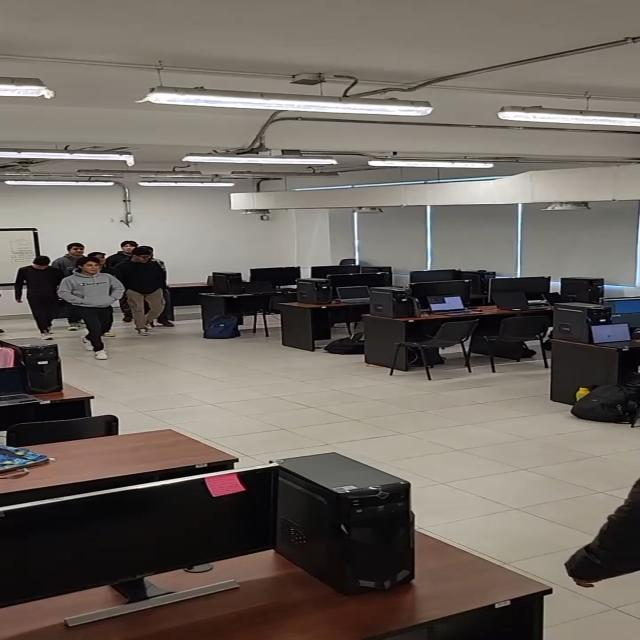Persona: (58, 256, 127, 361), (111, 248, 171, 336), (14, 256, 64, 342), (55, 242, 93, 274), (116, 239, 149, 269)
